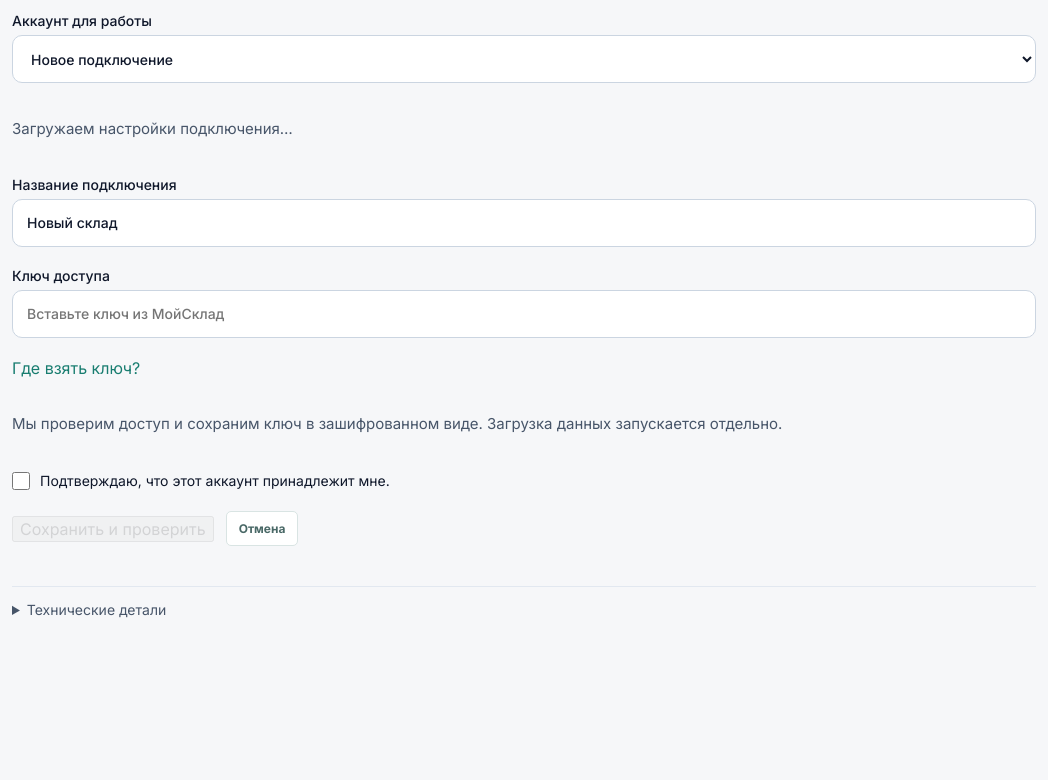
Scenario: creates a new MoySklad account at revision zero even when empty-account metadata lists an older connection
Expected: the field labelled "Название подключения" holds "Новый склад", [12,198,1036,246]
Type "synthetic-password-never-rendered" into the password field labelled "Ключ доступа" at x=524, y=314, box [12,290,1036,338]
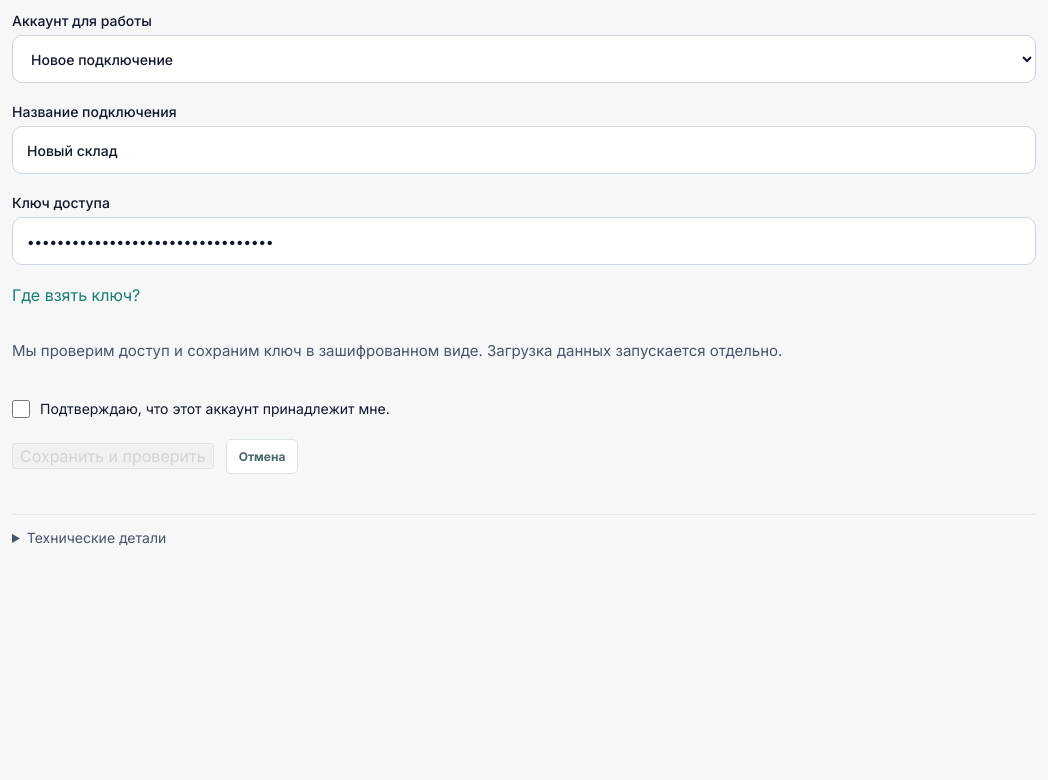
Click the checkbox labelled "Подтверждаю, что этот аккаунт принадлежит мне." at x=21, y=408, box [12,400,30,418]
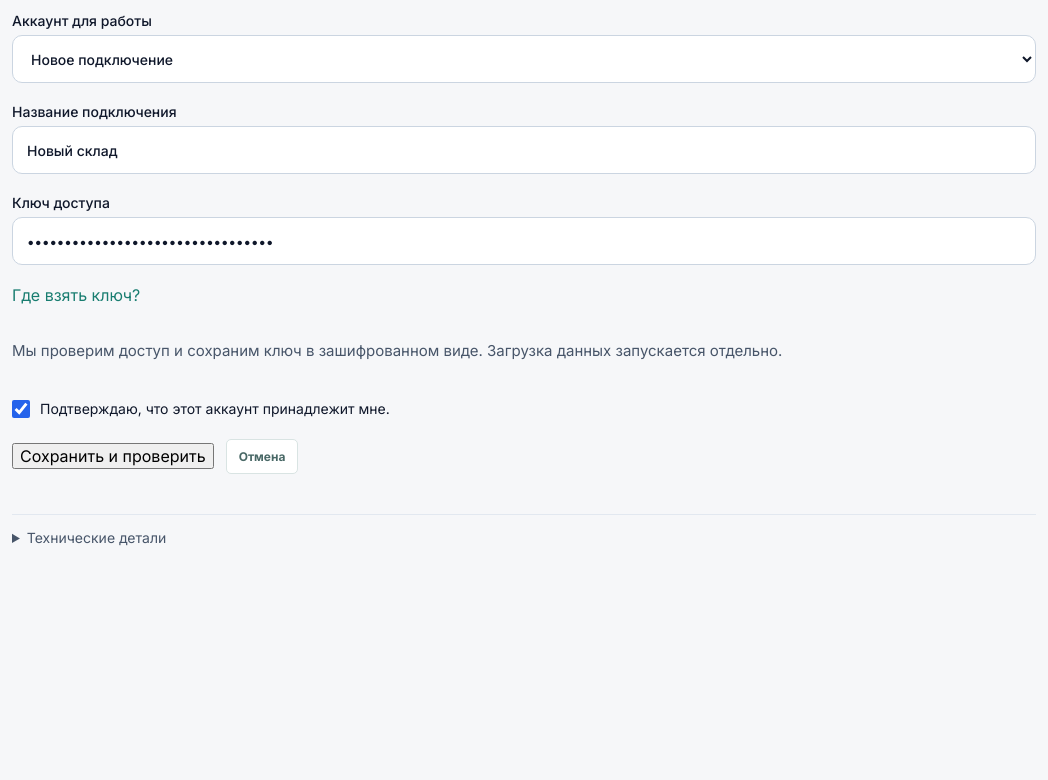
Expected: the button "Сохранить и проверить" is enabled
Click the button "Сохранить и проверить" at x=113, y=456, box [12,443,214,469]
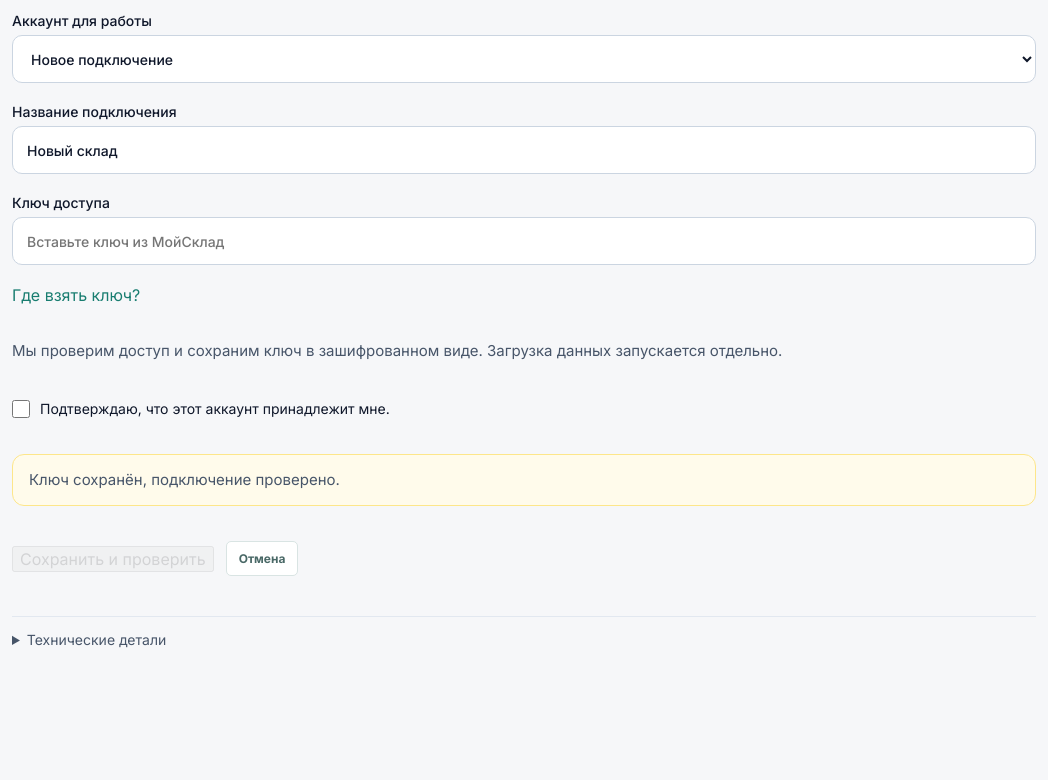
Expected: the text "Ключ сохранён, подключение проверено." is shown, [12,454,1036,506]
Expected: the password field labelled "Ключ доступа" is empty, [12,217,1036,265]
